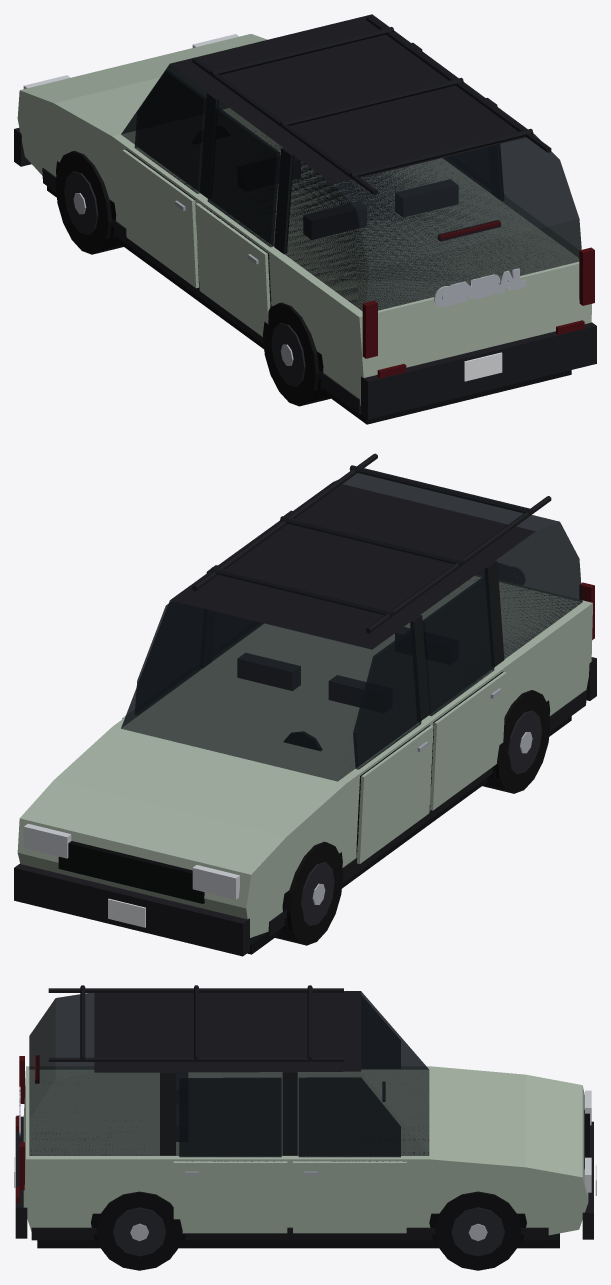
Rendered from ranger_suv.glb.
3 views of the same model, one above another, from view 1: azimuth 30°, elevation 25°; view 2: azimuth 150°, elevation 25°; view 3: azimuth 270°, elevation 25° (orthographic). The views are drawn at different scales.
Parts seen in each view (by area): view 1: Body, Door_RL, Door_FL, Wheel_FL, Wheel_RL, Interior, Decal_Tailgate, Taillight_R, Taillight_L, Plate_Rear; view 2: Body, Door_RL, Door_FL, Wheel_FL, Wheel_RL, Interior, Headlight_L, Headlight_R, Plate_Front; view 3: Body, Door_RR, Door_FR, Wheel_FR, Wheel_RR, Interior.
Boxes of the visible parts, left/top/right/bottom form: Body: left=14, top=14, right=596, bottom=424; Door_RL: left=195, top=106, right=279, bottom=336; Door_FL: left=122, top=70, right=206, bottom=288; Wheel_FL: left=55, top=150, right=123, bottom=254; Wheel_RL: left=263, top=302, right=330, bottom=406; Interior: left=278, top=156, right=458, bottom=239; Decal_Tailgate: left=434, top=268, right=526, bottom=307; Taillight_R: left=579, top=247, right=594, bottom=305; Taillight_L: left=362, top=300, right=377, bottom=358; Plate_Rear: left=464, top=352, right=502, bottom=381; Body: left=14, top=453, right=596, bottom=956; Door_RL: left=422, top=575, right=506, bottom=810; Door_FL: left=353, top=628, right=433, bottom=863; Wheel_FL: left=275, top=841, right=343, bottom=945; Wheel_RL: left=482, top=690, right=550, bottom=793; Interior: left=237, top=627, right=410, bottom=750; Headlight_L: left=192, top=865, right=239, bottom=899; Headlight_R: left=23, top=823, right=71, bottom=858; Plate_Front: left=108, top=898, right=145, bottom=927; Body: left=15, top=985, right=593, bottom=1253; Door_RR: left=173, top=1077, right=287, bottom=1233; Door_FR: left=293, top=1077, right=406, bottom=1233; Wheel_FR: left=435, top=1191, right=521, bottom=1270; Wheel_RR: left=96, top=1191, right=182, bottom=1270; Interior: left=176, top=1072, right=385, bottom=1141.
Bounding box in the file's own units: 2.04 × 1.97 × 5.13.
